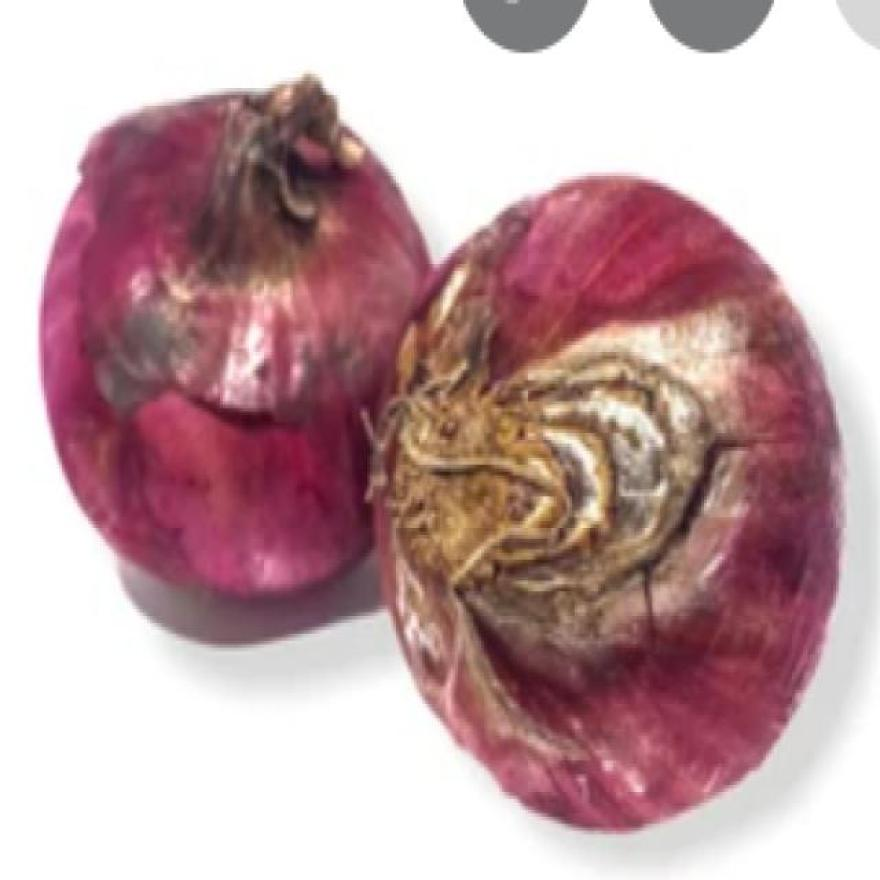Rotten: (425, 400, 722, 612), (228, 95, 344, 275)
